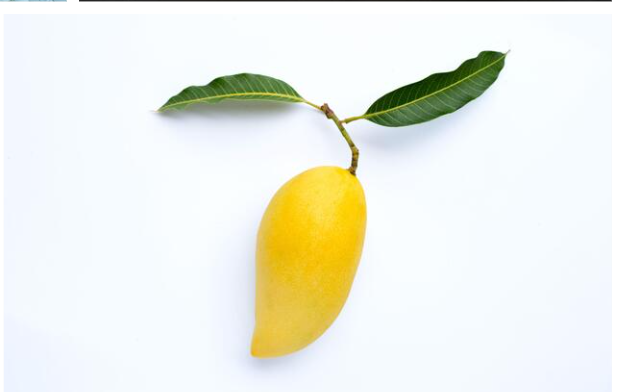mango: (249, 165, 367, 354)
